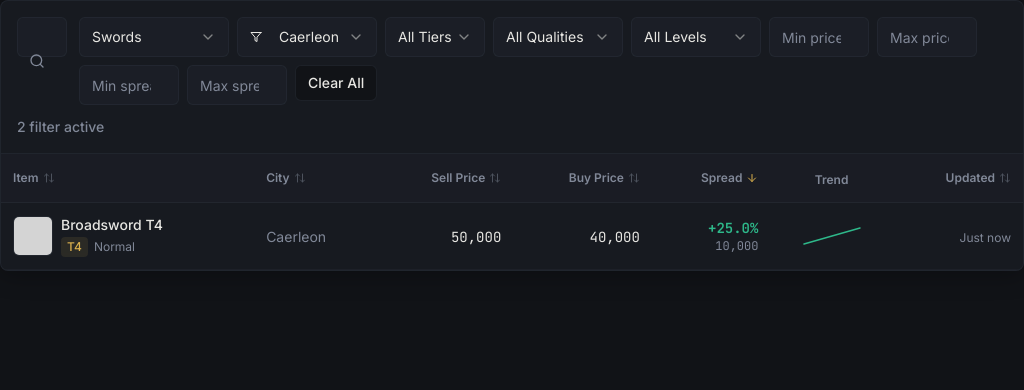
Test: PriceTable — persistência de filtros (AC-5) › AC-3: Limpar filtros remove persistência › deve resetar filtros para o padrão após Clear All
Step 1. Click the button "Clear All" → click(336, 83), box [295,65,377,101]
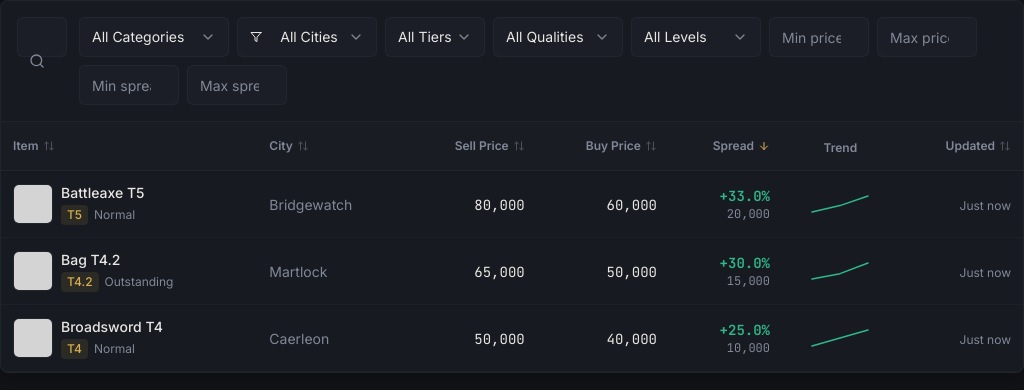
Check: the dropdown named "category" shows "All", box [79,17,229,57]
Check: the dropdown named "city" shows "All", box [237,17,377,57]
